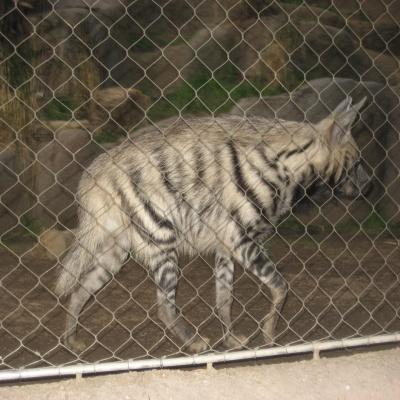hyenas: (37, 78, 390, 347)
